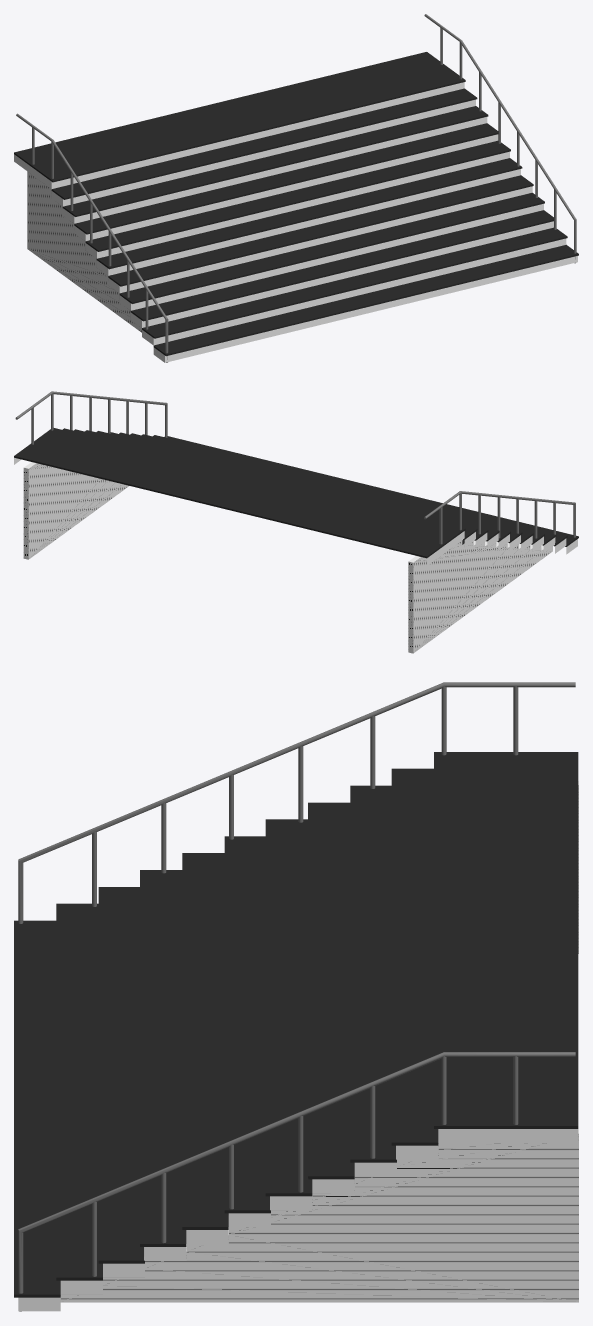
The model's file is Stairs 2.fbx.
3 views of the same model, one above another, from view 1: azimuth 30°, elevation 25°; view 2: azimuth 150°, elevation 25°; view 3: azimuth 270°, elevation 25° (orthographic). The views are drawn at different scales.
Parts seen in each view (by area): view 1: Stairs 2; view 2: Stairs 2; view 3: Stairs 2.
Boxes of the visible parts, x1,y1,x2,y2 form: Stairs 2: [14, 14, 578, 362]; Stairs 2: [14, 391, 578, 653]; Stairs 2: [14, 682, 578, 1311].
Bounding box in the file's own units: 888 × 286 × 567.
